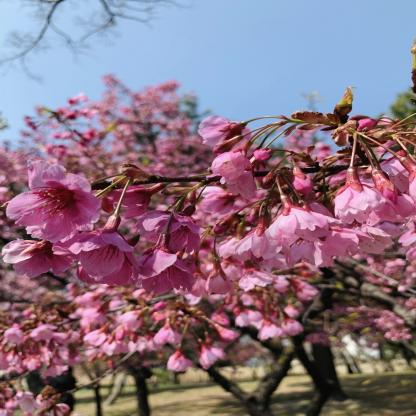KanhiSakura: (1, 76, 416, 416)
